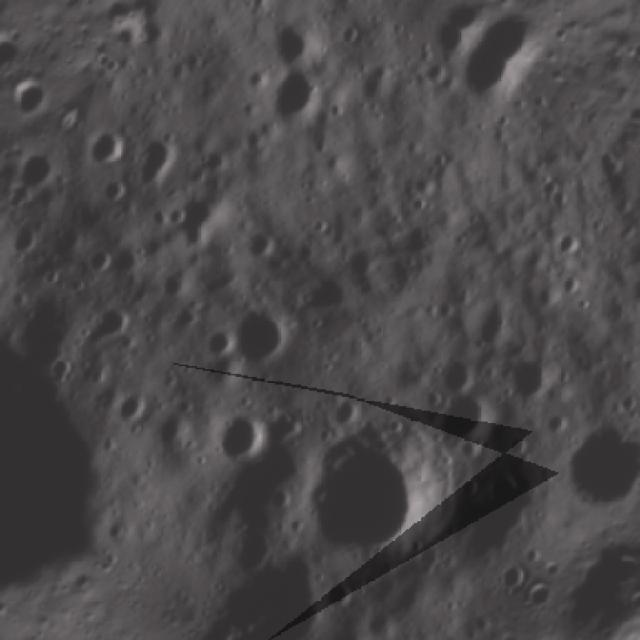crater: (282, 409, 453, 585), (192, 526, 354, 640), (537, 402, 632, 511), (414, 364, 512, 464), (246, 59, 331, 148), (221, 299, 305, 384), (120, 113, 203, 199), (204, 398, 278, 477), (252, 3, 326, 80), (339, 601, 485, 640), (448, 38, 524, 112), (492, 336, 565, 410), (76, 105, 150, 178), (73, 294, 141, 361), (223, 212, 289, 278), (98, 383, 153, 443), (144, 252, 196, 305), (200, 321, 251, 372), (115, 8, 162, 63), (243, 0, 320, 5)
